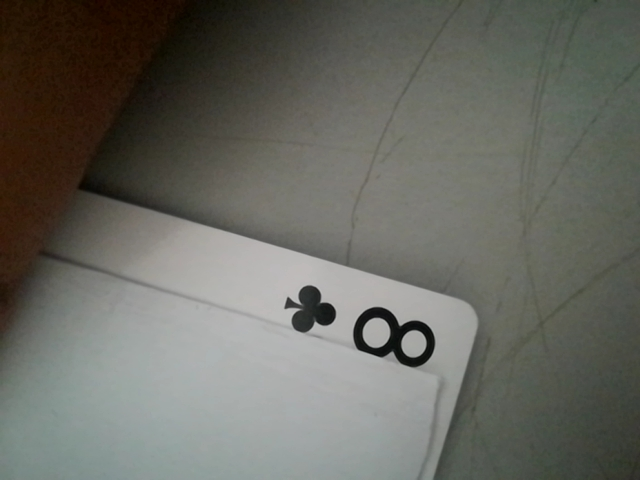mh 8: (269, 274, 456, 374)
